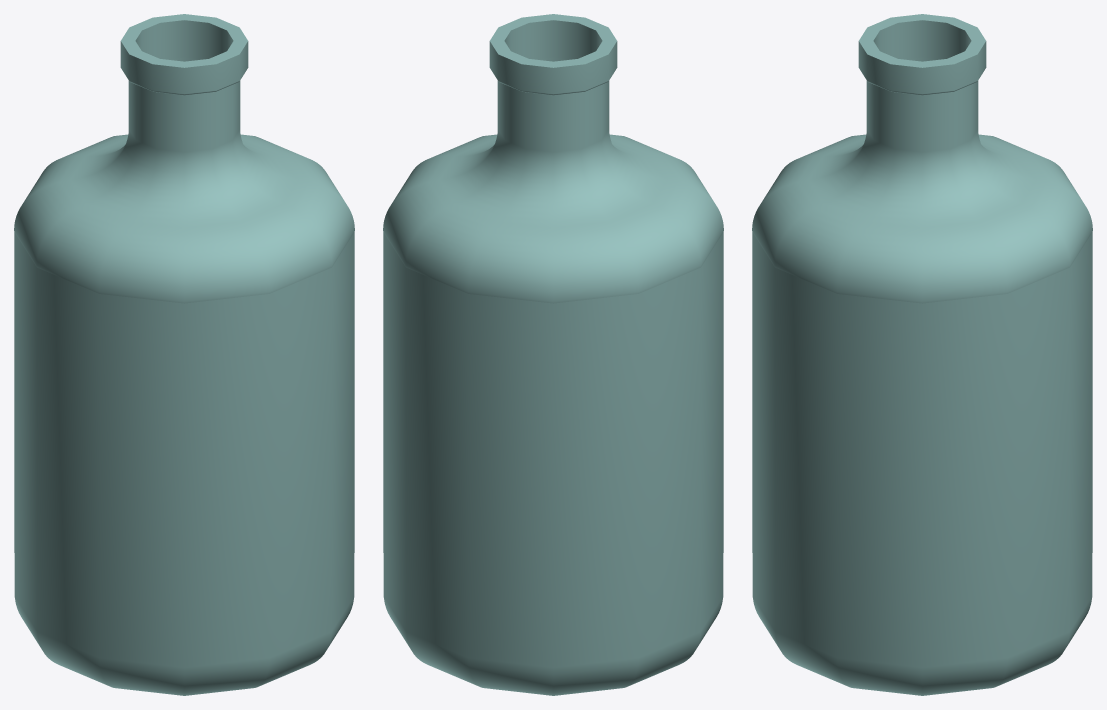
The model's file is bottle.fbx.
3 views of the same model, side by side, from view 1: azimuth 30°, elevation 25°; view 2: azimuth 150°, elevation 25°; view 3: azimuth 270°, elevation 25° (orthographic).
Parts seen in each view (by area): view 1: Lathe; view 2: Lathe; view 3: Lathe.
Boxes of the visible parts, bbox=[...] form: Lathe: bbox=[14, 14, 354, 695]; Lathe: bbox=[383, 14, 723, 695]; Lathe: bbox=[752, 14, 1092, 695].
Size of the model in its own units: 60.09 by 117 by 60.09.
